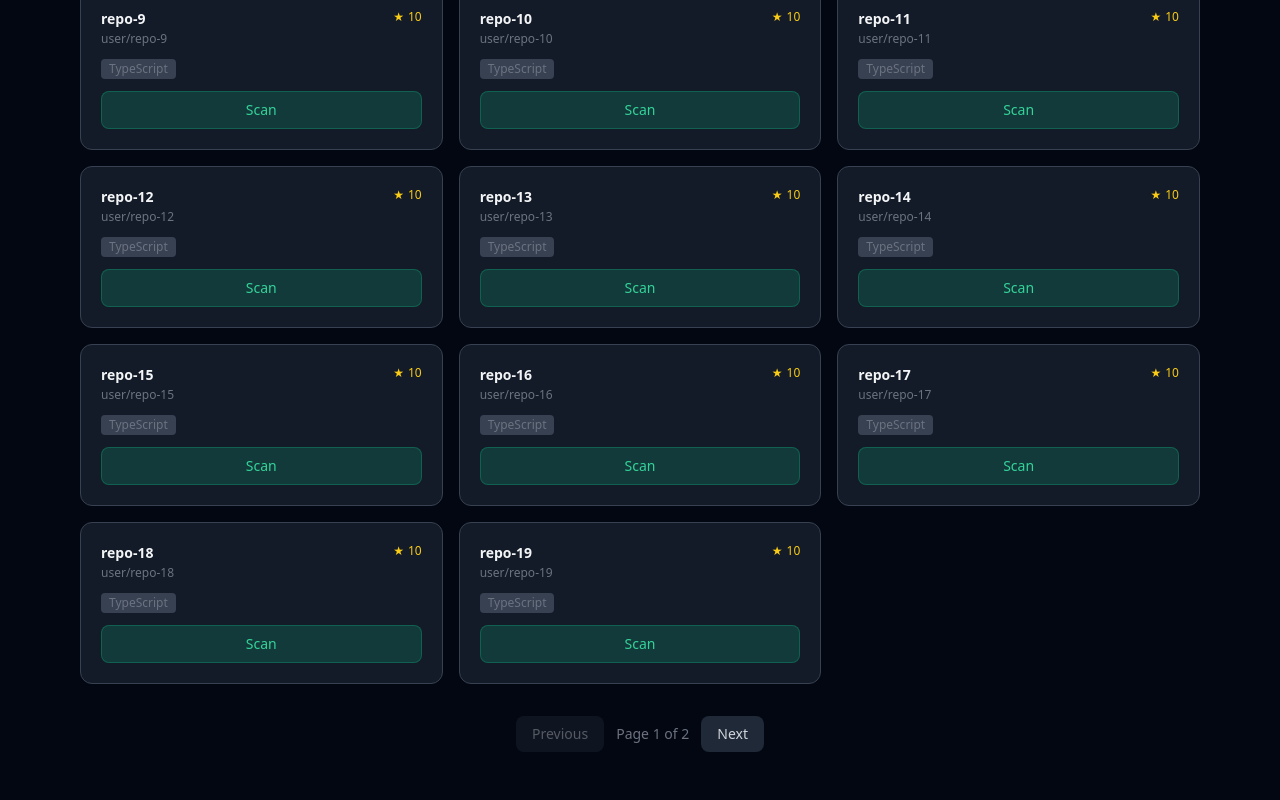
ReposPage success › should navigate pages with pagination controls
(page scrolled)
Expected: the text "Page 1 of 2" is shown, x1=616 y1=724 x2=689 y2=744
What coordinates should you click on to do the following:
click the button "Next"
I would click on:
 (733, 734)
Its box is x1=701 y1=716 x2=764 y2=752.
(page scrolled)
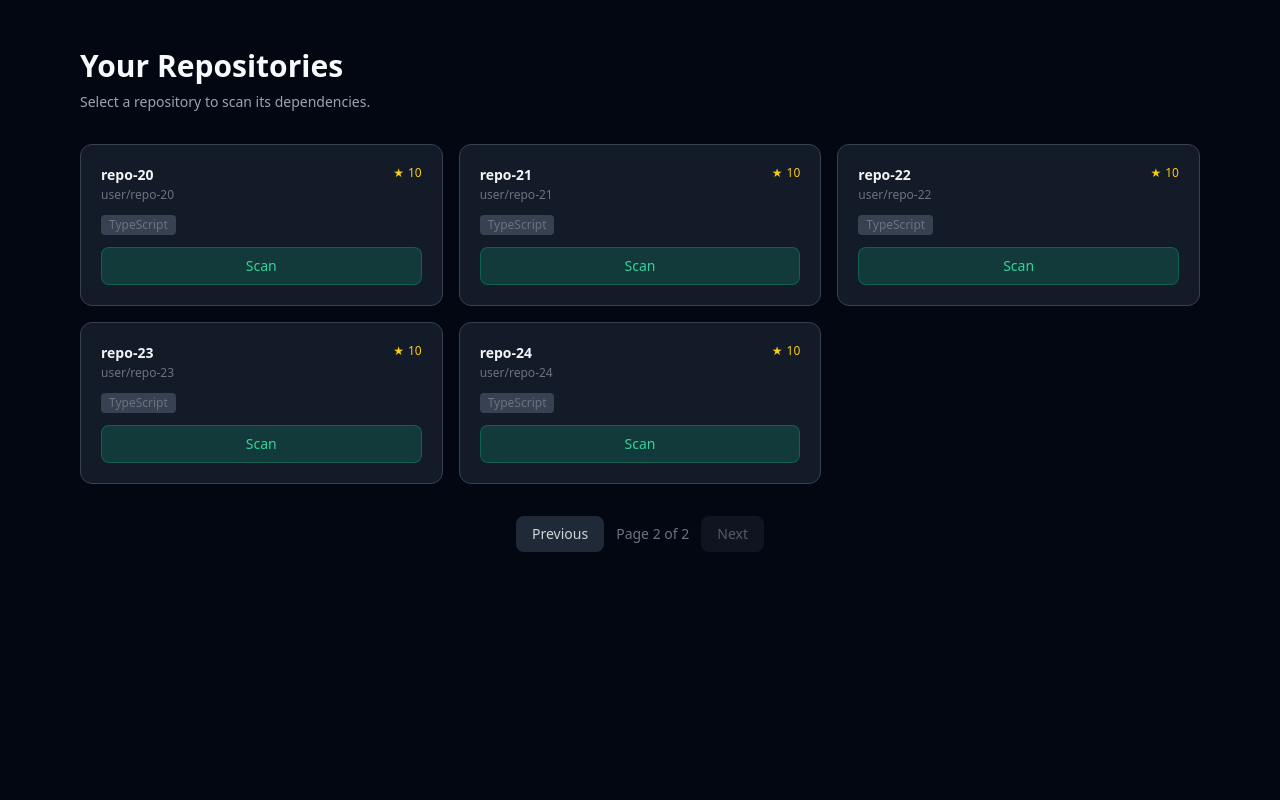
Expected: the text "Page 2 of 2" is shown, x1=616 y1=524 x2=689 y2=544
